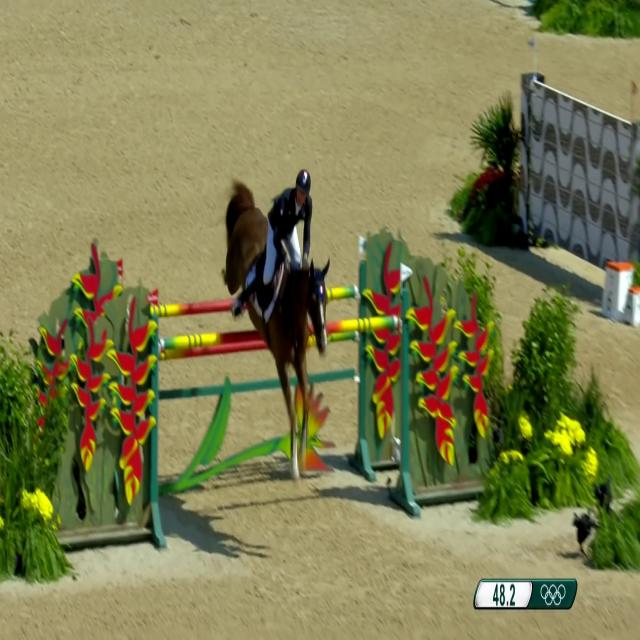Horse Jumping: (208, 161, 353, 452)
Horse Rider: (258, 121, 323, 344)
